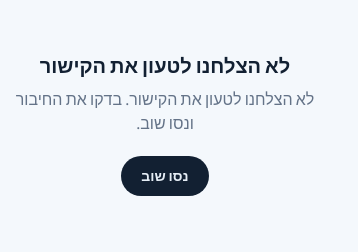
BookPage public booking journey › distinguishes a connection failure from a missing link and retries
The image size is (358, 252).
expect the heading "לא הצלחנו לטעון את הקישור" is shown: met, box [40,53,290,79]
Click the button "נסו שוב": coordinates (165, 176) [121,156,209,196]
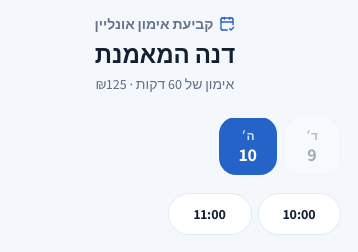
expect the heading "דנה המאמנת" is shown: met, box [95,38,235,70]
